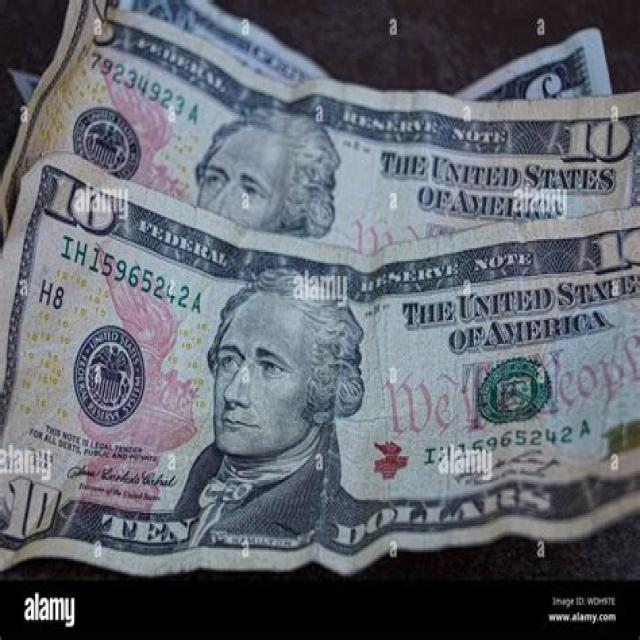Ten: (0, 149, 640, 575), (0, 0, 640, 244)
